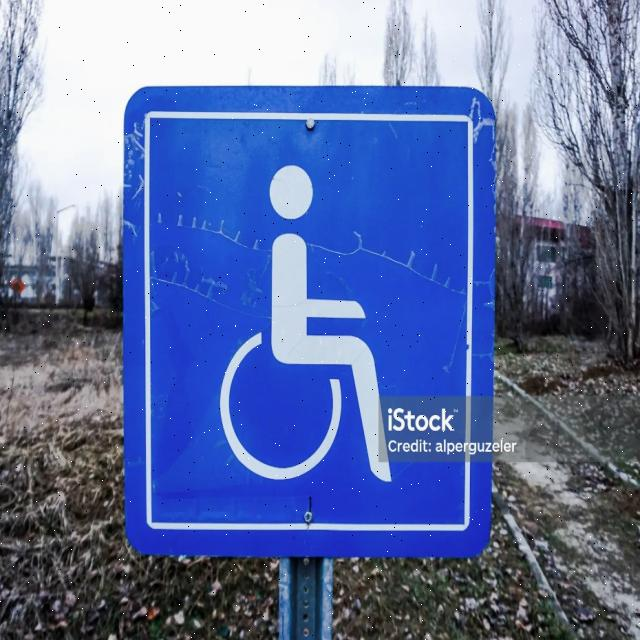symbol_of_access: (122, 86, 496, 556)
